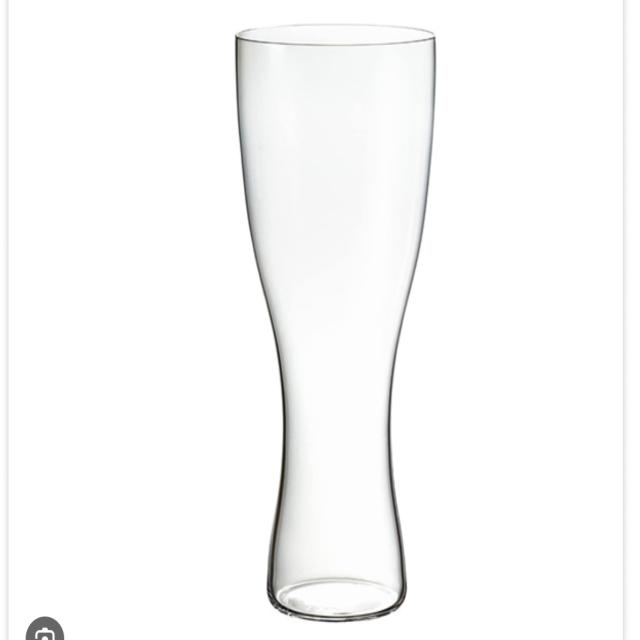recyclable: (218, 15, 447, 625)
